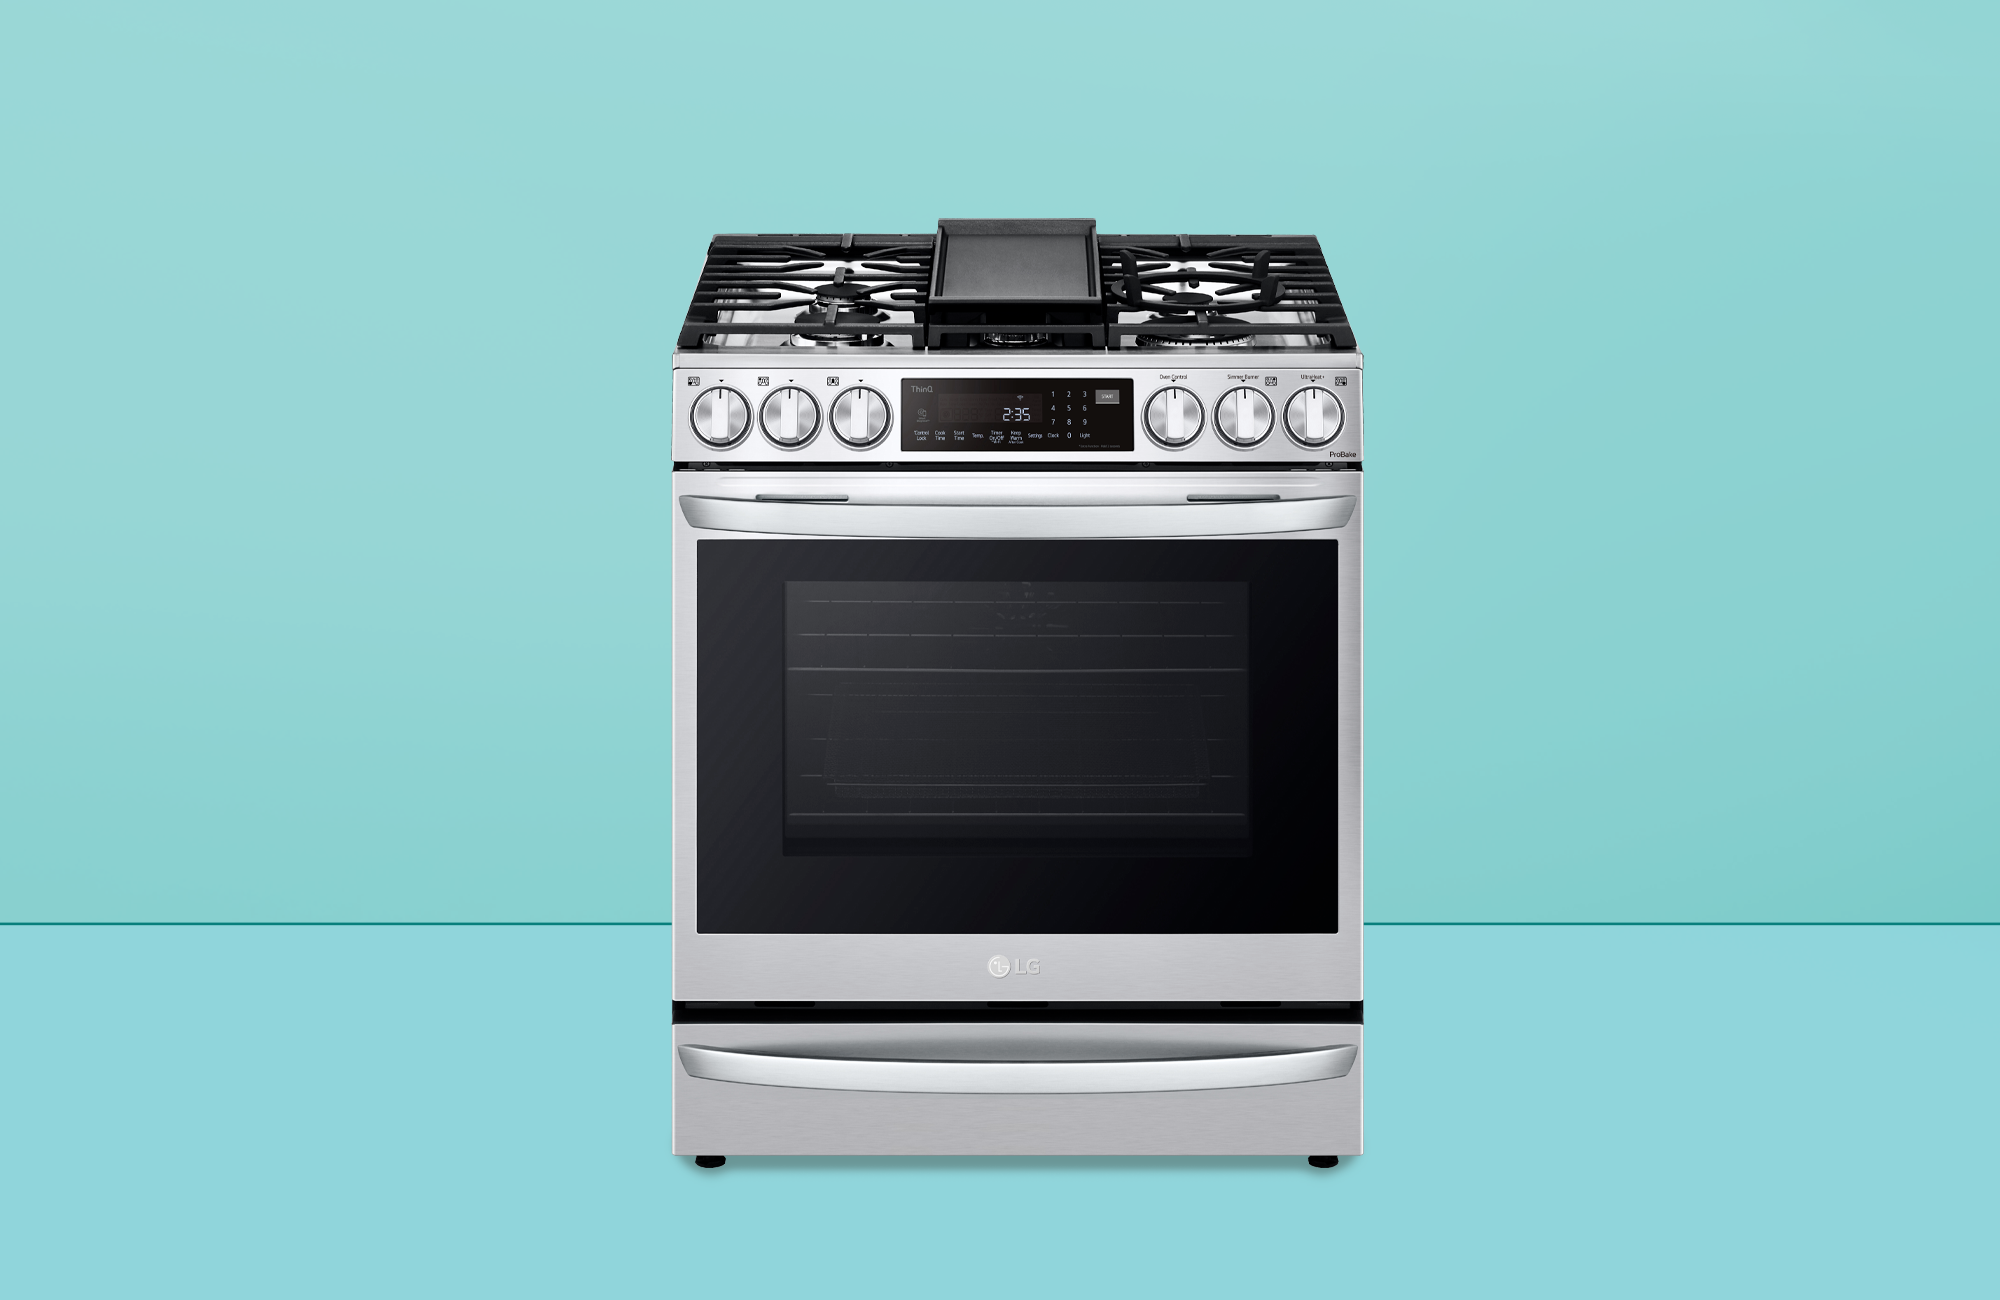stove: (644, 178, 1407, 1218)
